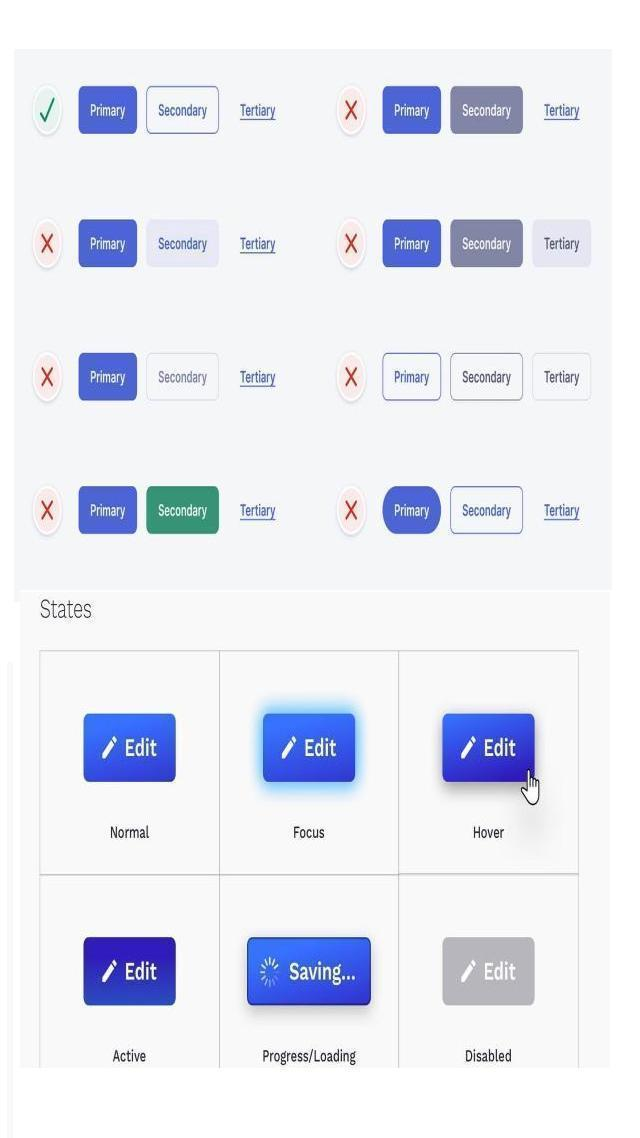Icon: (31, 219, 63, 271), (335, 86, 367, 138), (334, 486, 366, 538), (31, 86, 62, 138), (336, 218, 366, 271), (336, 353, 367, 404), (31, 488, 62, 538), (32, 353, 62, 404)
Text: (260, 1047, 360, 1069), (462, 1046, 514, 1068), (110, 822, 152, 842), (112, 1048, 150, 1069), (470, 823, 506, 843), (292, 824, 326, 840)
TextButton: (244, 937, 374, 1006), (441, 712, 536, 783), (262, 712, 356, 783), (83, 714, 177, 784), (442, 935, 534, 1005), (83, 936, 176, 1004), (450, 85, 524, 135), (448, 486, 524, 534), (451, 218, 524, 267), (145, 352, 219, 400), (146, 486, 220, 534), (449, 353, 522, 401), (147, 221, 220, 268), (147, 87, 220, 133), (79, 84, 138, 136), (77, 484, 138, 534), (382, 486, 442, 536), (77, 218, 138, 267), (78, 352, 139, 401), (381, 352, 442, 400), (532, 487, 594, 534), (230, 486, 288, 536), (533, 351, 591, 400), (382, 85, 441, 133), (532, 219, 592, 266), (383, 219, 441, 267), (533, 87, 590, 134), (230, 352, 285, 399), (232, 221, 285, 268), (232, 87, 284, 134)
